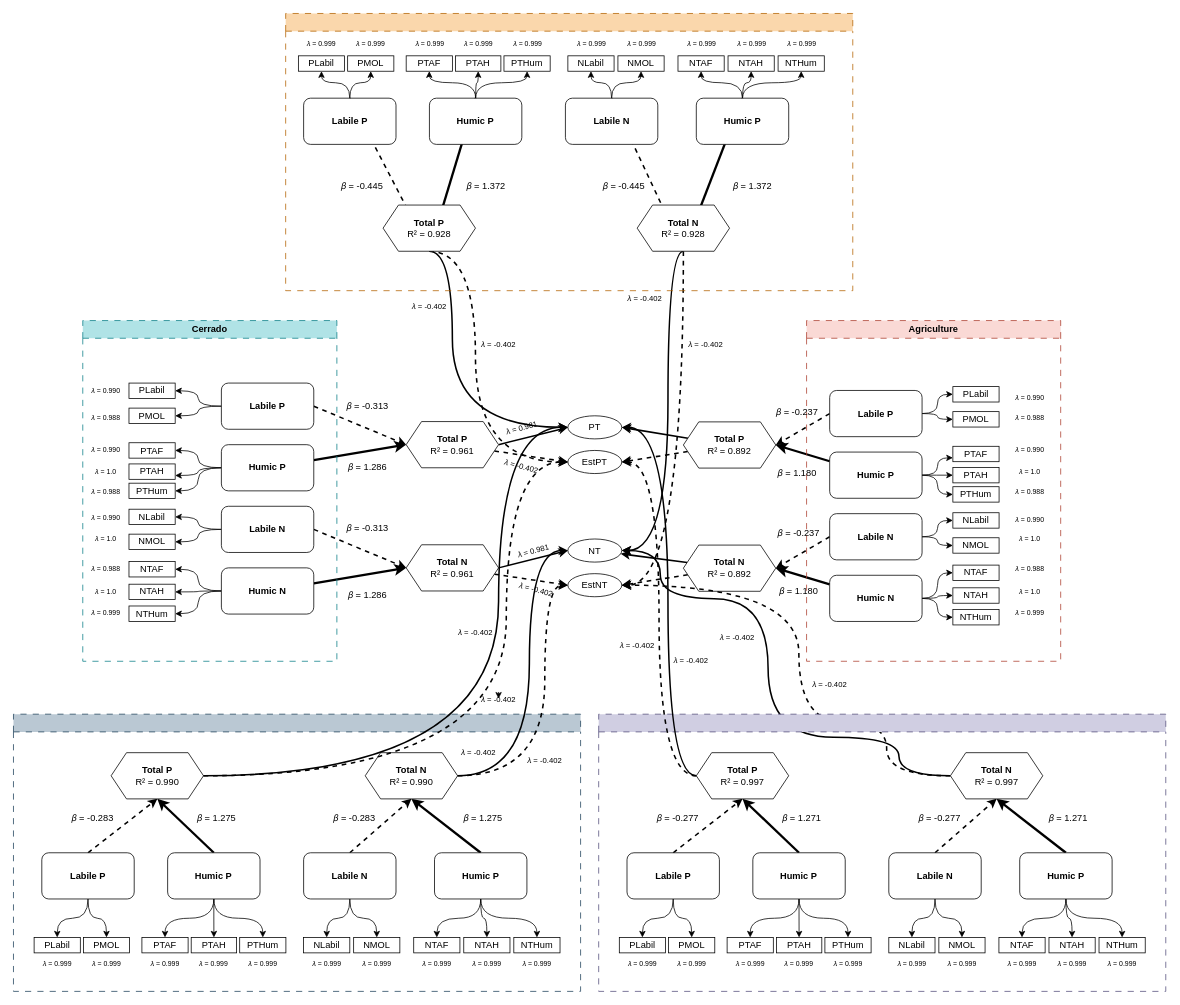
Image size: 1180x1005. Some labels were removed from this diagram. The shapes that lost their labels are listed below. From the top down, each one's box as (x1, y1, x2, y2) in pixels, then its label:
(285, 13, 853, 291): Teak
(13, 713, 581, 991): Eucalyptus
(598, 713, 1166, 991): Mahogany
